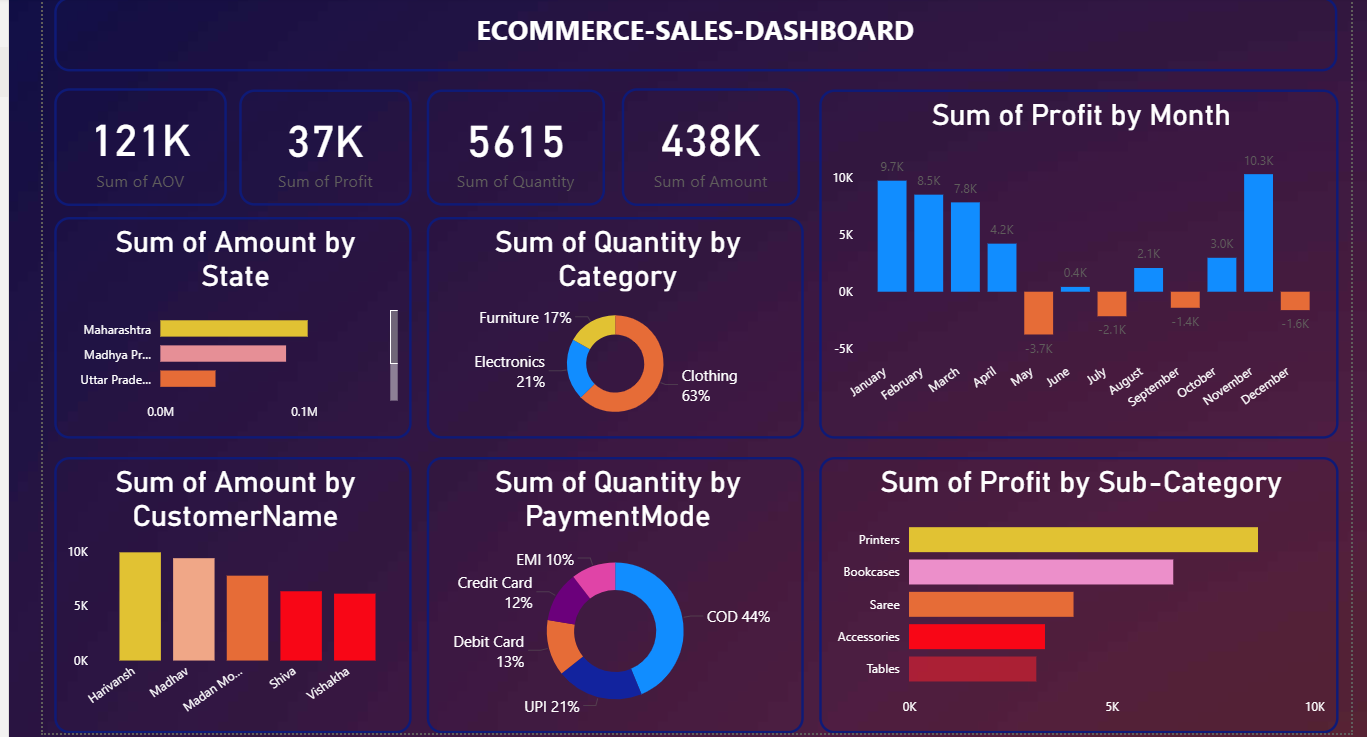

The dashboard page shown, as its layout file describes it:
{"tool":"powerbi","page":{"name":"Page 1","canvas":[1280,720],"ordinal":0},"visuals":[{"type":"columnChart","fields":{"Category":["Orders.Order Date.Variation.Date Hierarchy.Month"],"Y":["Sum(Details.Profit)"]},"box":[758.8,90.6,507.7,341.7],"z":0},{"type":"barChart","fields":{"Category":["Details.Sub-Category"],"Y":["Sum(Details.Profit)"]},"box":[758.8,450.1,507.7,270.3],"z":1000},{"type":"donutChart","fields":{"Category":["Details.Category"],"Y":["Sum(Details.Quantity)"]},"box":[376,215.4,369.1,216.8],"z":2000},{"type":"donutChart","fields":{"Category":["Details.PaymentMode"],"Y":["Sum(Details.Quantity)"]},"box":[376,450.1,369.1,270.3],"z":3000},{"type":"card","fields":{"Values":["Sum(Details.Amount)"]},"box":[566.7,89.2,174.3,115.3],"z":4000},{"type":"card","fields":{"Values":["Sum(Details.Quantity)"]},"box":[376,90.6,174.3,113.9],"z":5000},{"type":"card","fields":{"Values":["Sum(Details.Profit)"]},"box":[192.1,90.6,168.8,113.9],"z":6000},{"type":"card","fields":{"Values":["Sum(Details.AOV)"]},"box":[11,89.2,168.8,115.3],"z":7000},{"type":"barChart","fields":{"Category":["Orders.State"],"Y":["Sum(Details.Amount)"]},"box":[11,215.4,349.9,216.8],"z":8000},{"type":"columnChart","fields":{"Category":["Orders.CustomerName"],"Y":["Sum(Details.Amount)"]},"box":[11,450.1,349.9,270.3],"z":9000},{"type":"textbox","box":[11,0,1255.6,72.7],"z":10000}]}

Visuals, with their boxes on the page's 1280x720 design canvas (x1, y1, x2, y2). These are canvas units, not pixel positions in the 1367x737 screenshot, which may show the page scaled, cropped or inside an application window:
columnChart - Orders.Order Date.Variation.Date Hierarchy.Month x Sum(Details.Profit): {"left": 759, "top": 91, "right": 1266, "bottom": 432}
barChart - Details.Sub-Category x Sum(Details.Profit): {"left": 759, "top": 450, "right": 1266, "bottom": 720}
donutChart - Details.Category x Sum(Details.Quantity): {"left": 376, "top": 215, "right": 745, "bottom": 432}
donutChart - Details.PaymentMode x Sum(Details.Quantity): {"left": 376, "top": 450, "right": 745, "bottom": 720}
card - Sum(Details.Amount): {"left": 567, "top": 89, "right": 741, "bottom": 204}
card - Sum(Details.Quantity): {"left": 376, "top": 91, "right": 550, "bottom": 204}
card - Sum(Details.Profit): {"left": 192, "top": 91, "right": 361, "bottom": 204}
card - Sum(Details.AOV): {"left": 11, "top": 89, "right": 180, "bottom": 204}
barChart - Orders.State x Sum(Details.Amount): {"left": 11, "top": 215, "right": 361, "bottom": 432}
columnChart - Orders.CustomerName x Sum(Details.Amount): {"left": 11, "top": 450, "right": 361, "bottom": 720}
textbox: {"left": 11, "top": 0, "right": 1267, "bottom": 73}
